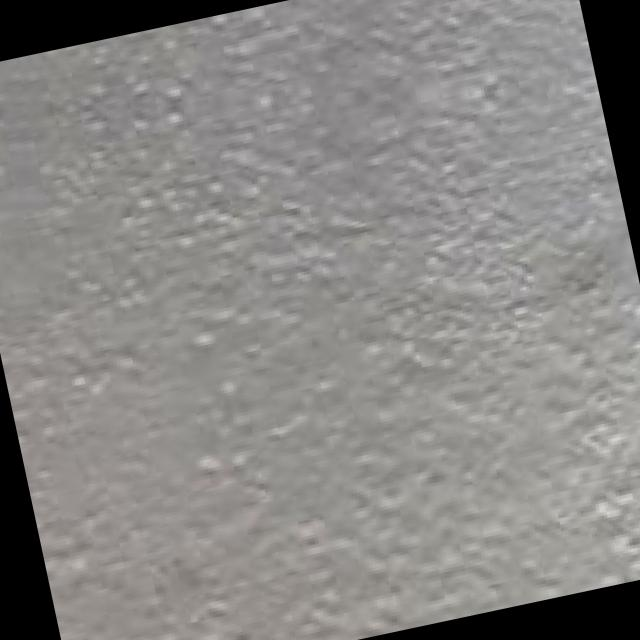crack: (603, 442, 640, 578)
